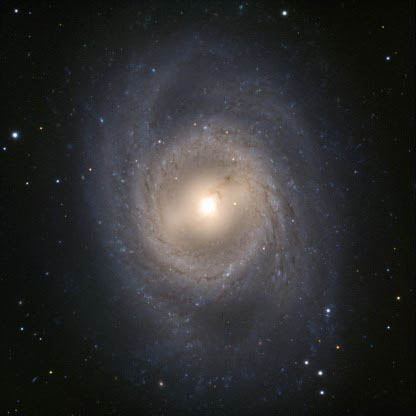Messier 95: (66, 20, 346, 397)
